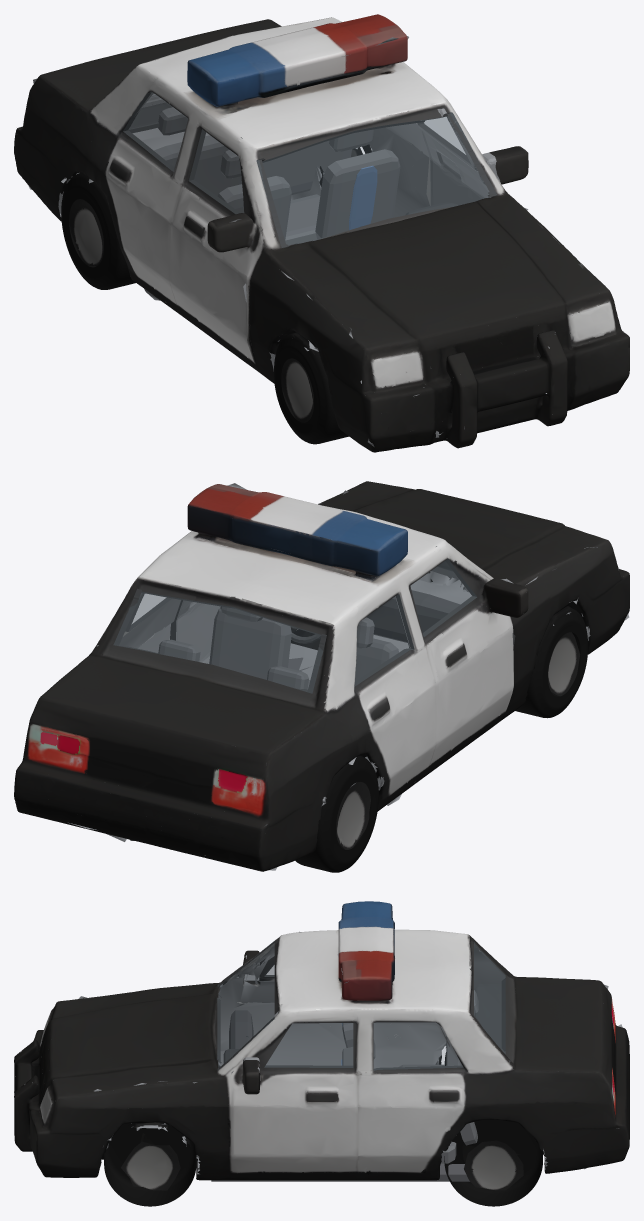
The model's file is Policecar_lod.glb.
The picture shows the model from 3 angles, top to bottom: view 1: azimuth 30°, elevation 25°; view 2: azimuth 150°, elevation 25°; view 3: azimuth 270°, elevation 25°; orthographic projection. The views are drawn at different scales.
Visible parts, largest first — view 1: world, Glass__Body, Cabin__Seat__26282B, Wheel_PR, Cabin__Liner__4A4D52, Wheel_NR, Driver_Seat__Seat__26282B, Door_Driver__Card__4A4D52, Cabin__Trim__0E0F10, Door_Driver__Shell, Driver_Seat__Accent__1F3A6E, Cabin__Trim__0E0F10.001; view 2: world, Glass__Body, Wheel_PR, Wheel_NR, Driver_Seat__Seat__26282B, Cabin__Liner__4A4D52, Cabin__Seat__26282B, Cabin__Trim__0E0F10, Cabin__Dash__141517, Door_Driver__Card__4A4D52; view 3: world, Door_Driver__Shell, Glass__Body, Cabin__Liner__4A4D52, Wheel_NL, Wheel_PL, Door_Driver__Glass, Cabin__Trim__0E0F10.001, Cabin__Trim__0E0F10, Cabin__Seat__26282B, Cabin__Floor__1C1D20, Cabin__Dash__141517.
Boxes of the visible parts, x1,y1,x2,y2 form: world: (14,14,629,452); Glass__Body: (123,91,490,245); Cabin__Seat__26282B: (154,107,351,245); Wheel_PR: (61,173,135,289); Cabin__Liner__4A4D52: (17,36,623,446); Wheel_NR: (274,333,348,444); Driver_Seat__Seat__26282B: (315,129,400,239); Door_Driver__Card__4A4D52: (417,108,500,205); Cabin__Trim__0E0F10: (123,91,497,247); Door_Driver__Shell: (420,102,528,184); Driver_Seat__Accent__1F3A6E: (349,165,377,230); Cabin__Trim__0E0F10.001: (128,102,458,215); world: (14,481,629,871); Glass__Body: (114,559,476,693); Wheel_PR: (295,755,378,872); Wheel_NR: (515,609,587,718); Driver_Seat__Seat__26282B: (209,606,310,689); Cabin__Liner__4A4D52: (68,483,629,870); Cabin__Seat__26282B: (158,617,398,787); Cabin__Trim__0E0F10: (113,558,476,693); Cabin__Dash__141517: (366,590,460,642); Door_Driver__Card__4A4D52: (176,600,220,663); world: (14,901,629,1180); Door_Driver__Shell: (230,1004,358,1170); Glass__Body: (217,941,505,1070); Cabin__Liner__4A4D52: (14,931,622,1174); Wheel_NL: (104,1123,196,1206); Wheel_PL: (444,1119,542,1206); Door_Driver__Glass: (265,1023,352,1067); Cabin__Trim__0E0F10.001: (223,984,505,1063); Cabin__Trim__0E0F10: (217,941,505,1070); Cabin__Seat__26282B: (342,990,478,1163); Cabin__Floor__1C1D20: (211,1163,469,1181); Cabin__Dash__141517: (229,1010,253,1048).
Bounding box in the file's own units: 0.48 × 0.3903 × 1.
Materials: 12 (1 with a texture image).
